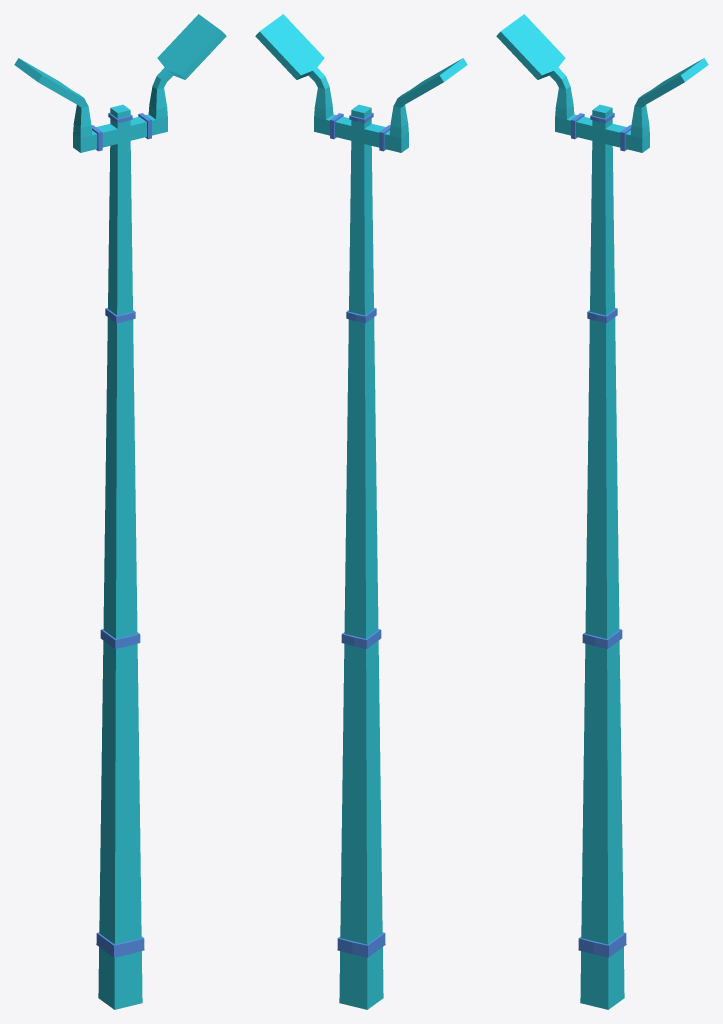
Rendered from LightPole_v2.fbx.
The picture shows the model from 3 angles, left to right: view 1: azimuth 30°, elevation 25°; view 2: azimuth 150°, elevation 25°; view 3: azimuth 330°, elevation 25°; orthographic projection.
Parts seen in each view (by area): view 1: Lamp.001; view 2: Lamp.001; view 3: Lamp.001.
Part boxes in pixels (left/top/right/bottom): Lamp.001: left=14, top=14, right=226, bottom=1009; Lamp.001: left=255, top=14, right=467, bottom=1009; Lamp.001: left=496, top=14, right=708, bottom=1009.
Bounding box in the file's own units: 138 × 667 × 30.08.
